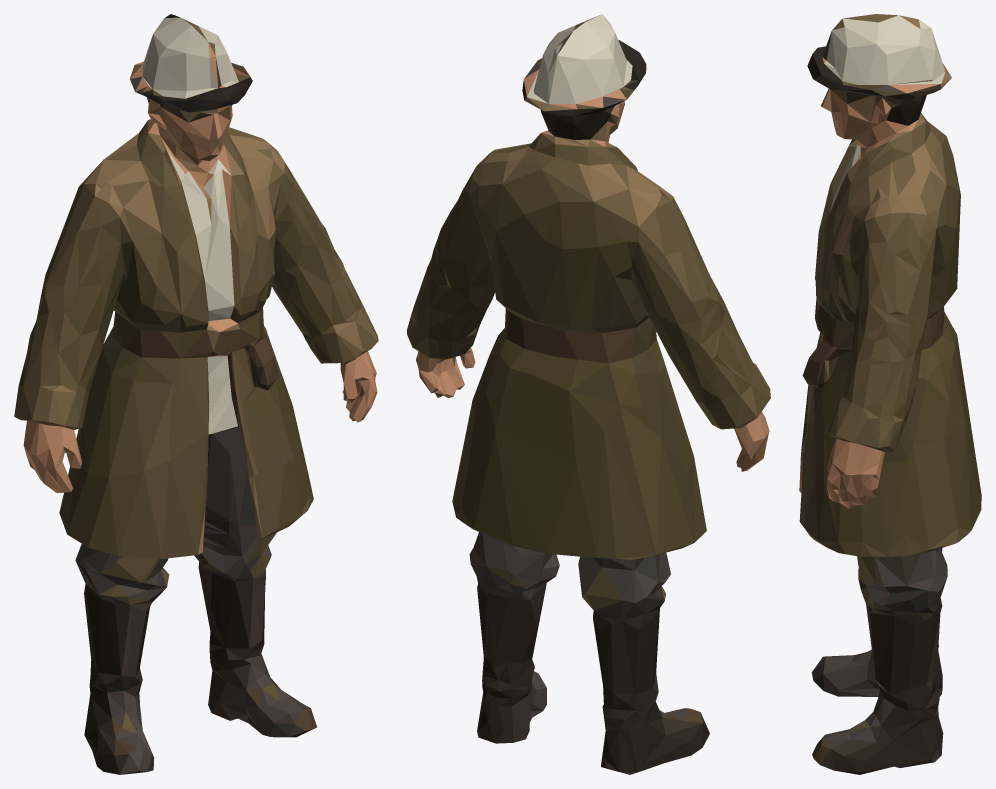
Rendered from herder-erlan.blender.glb.
The picture shows the model from 3 angles, left to right: view 1: azimuth 30°, elevation 25°; view 2: azimuth 150°, elevation 25°; view 3: azimuth 270°, elevation 25°; orthographic projection.
Visible parts, largest first — view 1: herder-erlan-blender; view 2: herder-erlan-blender; view 3: herder-erlan-blender.
Part boxes in pixels (left/top/right/bottom): herder-erlan-blender: left=14, top=14, right=378, bottom=774; herder-erlan-blender: left=407, top=14, right=770, bottom=774; herder-erlan-blender: left=799, top=14, right=981, bottom=774.
Bounding box in the file's own units: 0.9543 × 1.85 × 0.4299.
